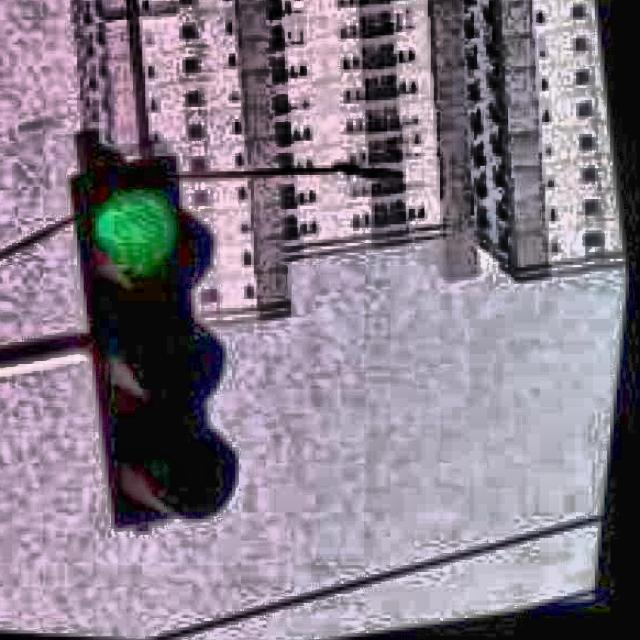green: (91, 150, 208, 534)
